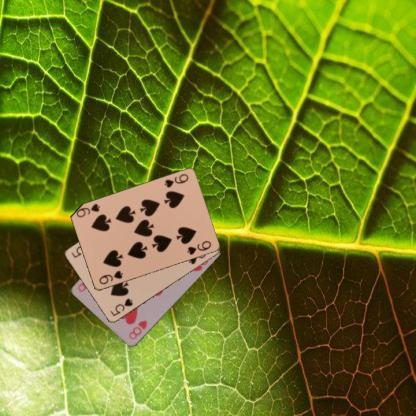5s: (108, 296, 134, 318)
8h: (126, 318, 148, 341)
9s: (96, 268, 124, 286), (162, 172, 190, 190)
